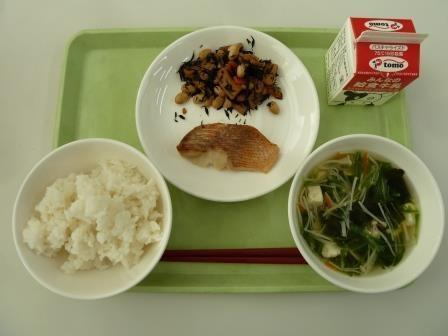Fish: (186, 118, 277, 177)
Milk: (322, 17, 435, 113)
Rice: (14, 143, 156, 290)
salad with sauce: (180, 40, 287, 115)
vegetable soup: (287, 136, 438, 281)
